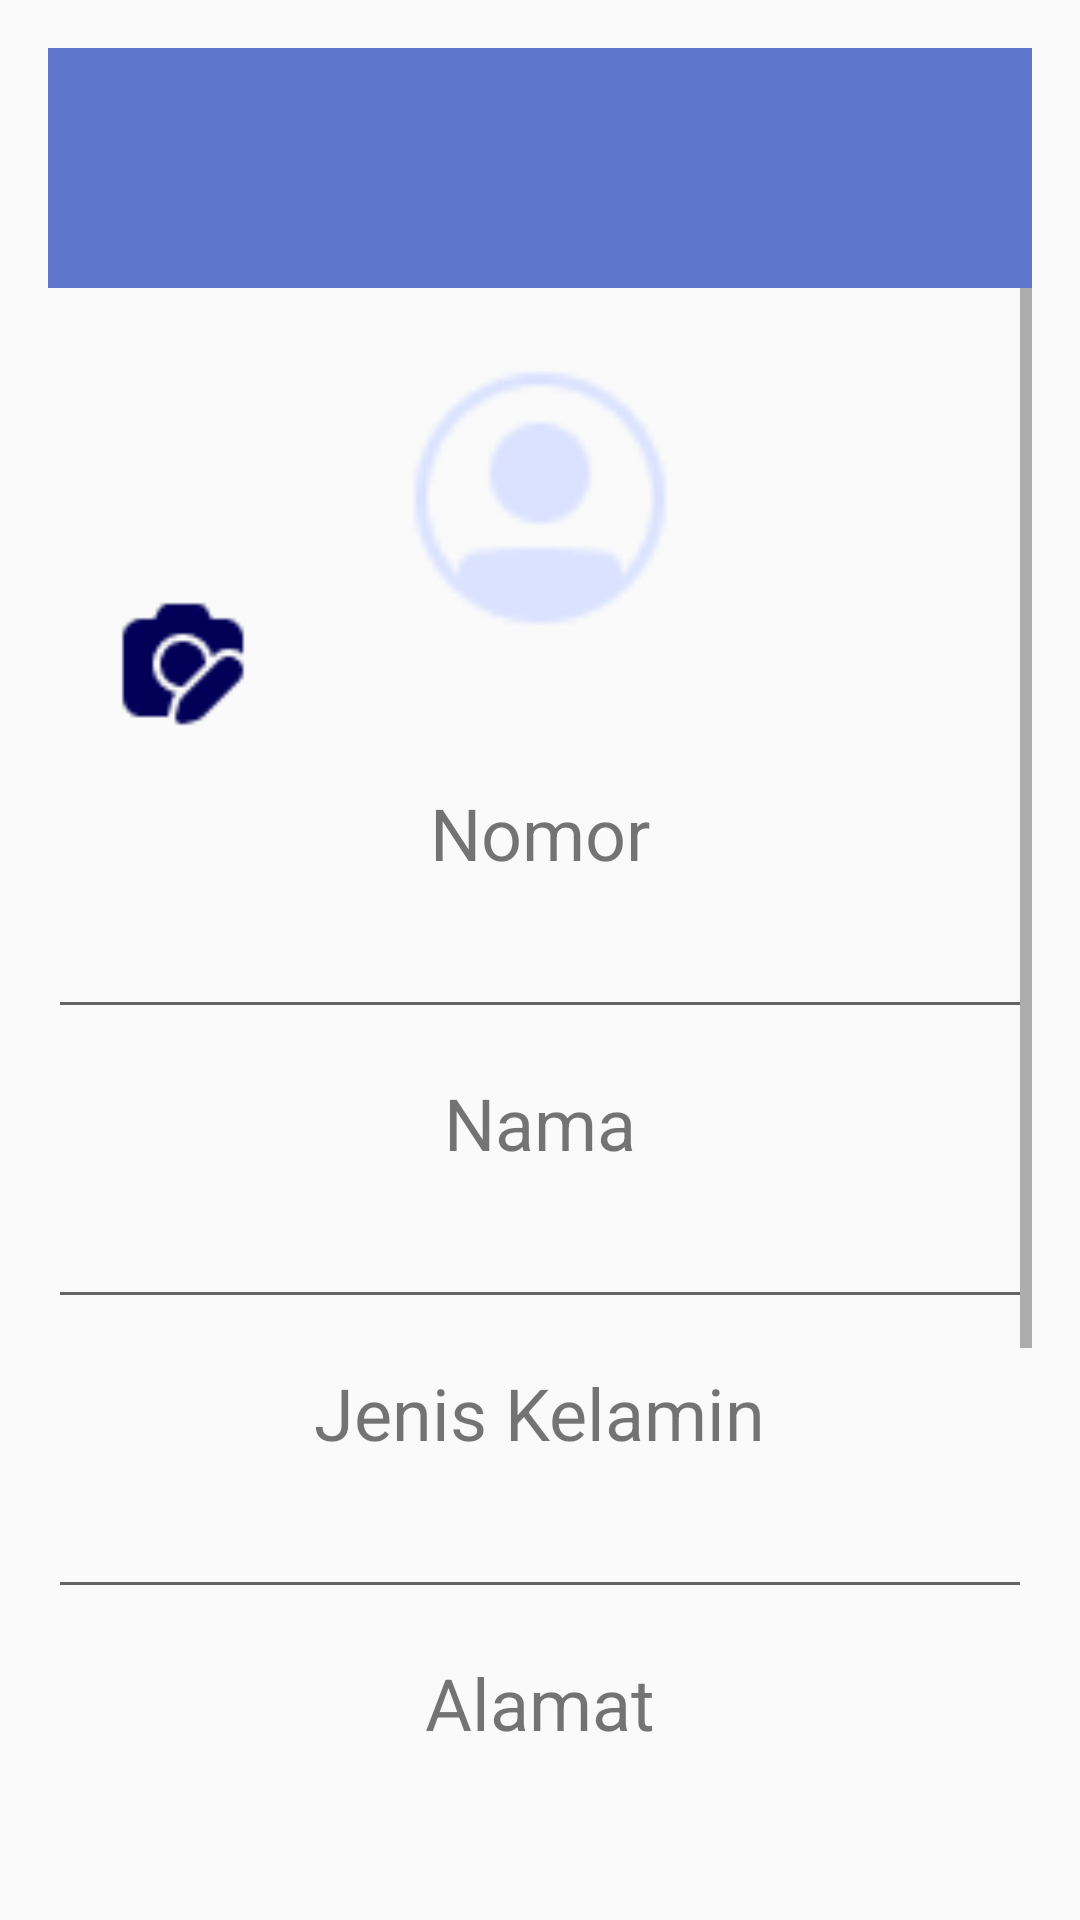

Point at icon controls on the screen. Image size 1080 x 1920, points as (x=x, y=y).
iconeditgambar: (x=183, y=663)
iconprofil: (x=540, y=498)
